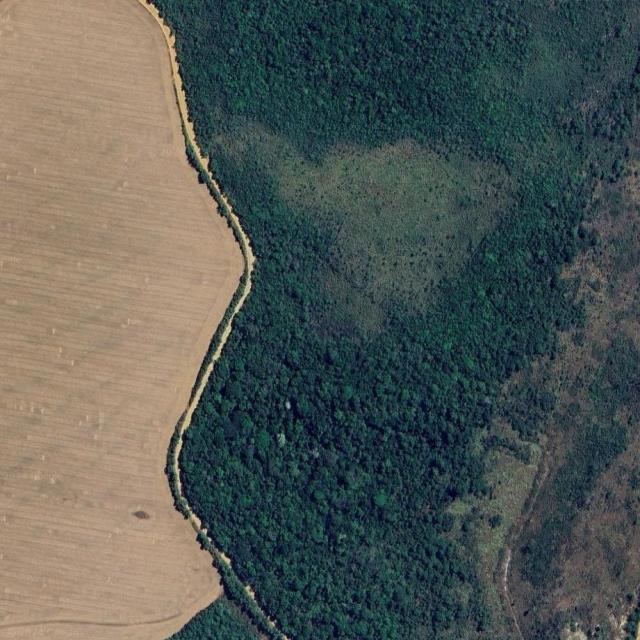noVegetation: (0, 1, 242, 638)
vegetation: (175, 583, 264, 638)
